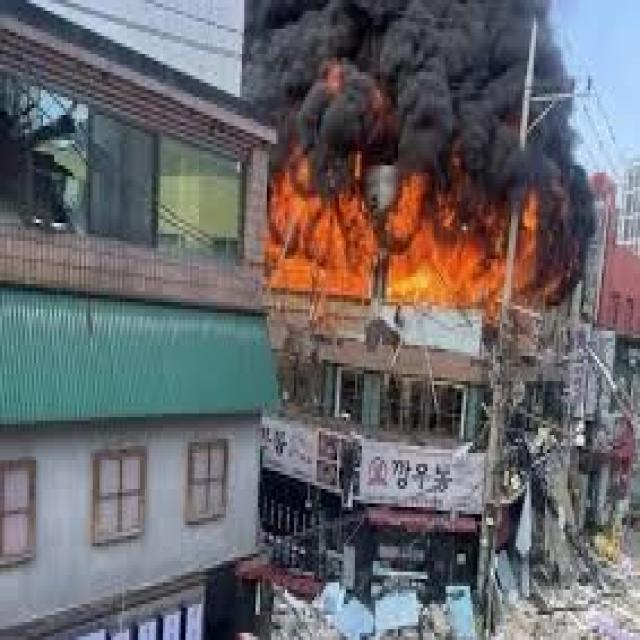explosion: (231, 0, 607, 484)
